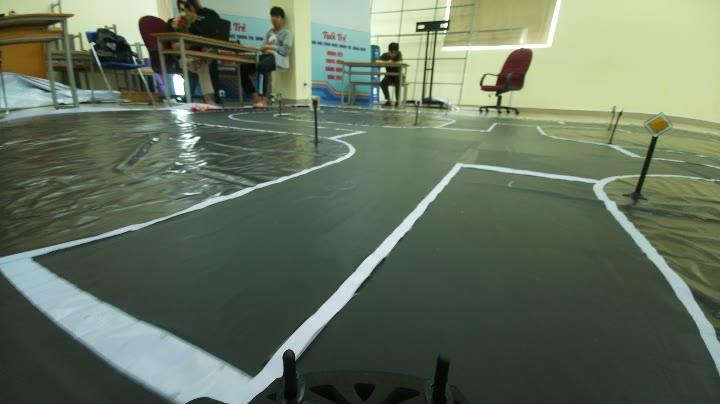priority: (643, 110, 674, 141)
